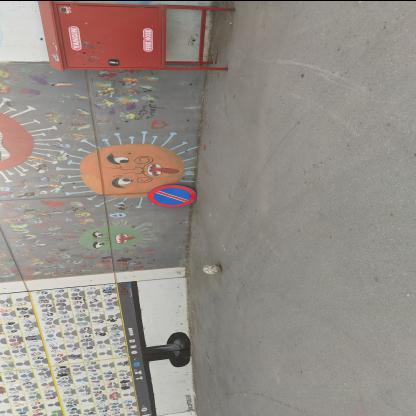No Waiting: (148, 184, 198, 208)
